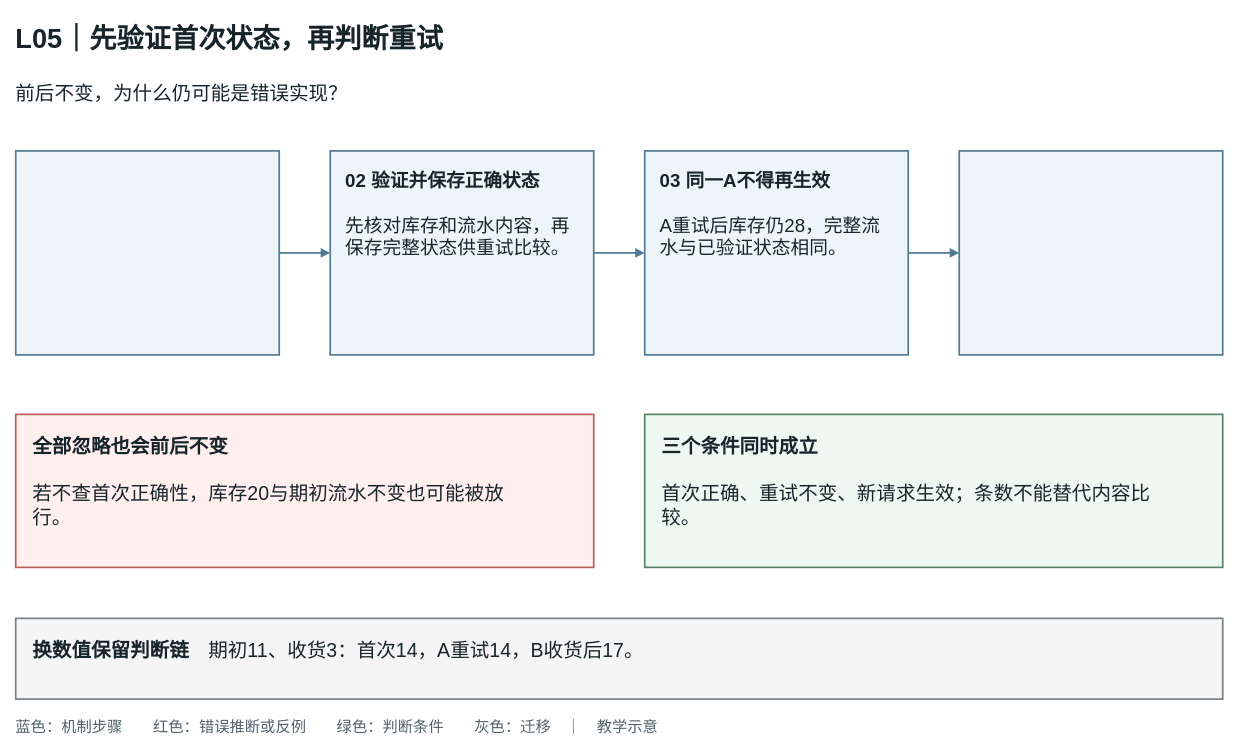
The diagram is 1238 pixels wide and 756 high, and some of its shapes have lost their labels. The shapes that lost their labels are listed below. From the top down, each one's centre as x and y in pixels, then its label:
At point (147, 252): "01 独立算出首次预期 期初20，A收货8：库存28； 期初与A共两条流水。".
At point (1090, 252): "04 独立B必须继续生效 B收货8后库存36，共三条 流水且只新增B。".
